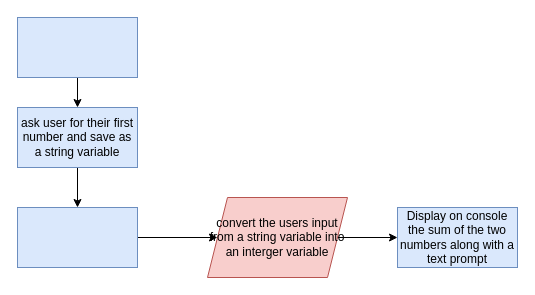
The diagram is 535 pixels wide and 295 high, and some of its shapes have lost their labels. Here are the shapes that lost their labels. From the top down, the box of each, then its label:
(16, 16, 138, 78): Console prompt informing user what you will be doing
(16, 206, 138, 268): ask user for their second number and save as a string variable
